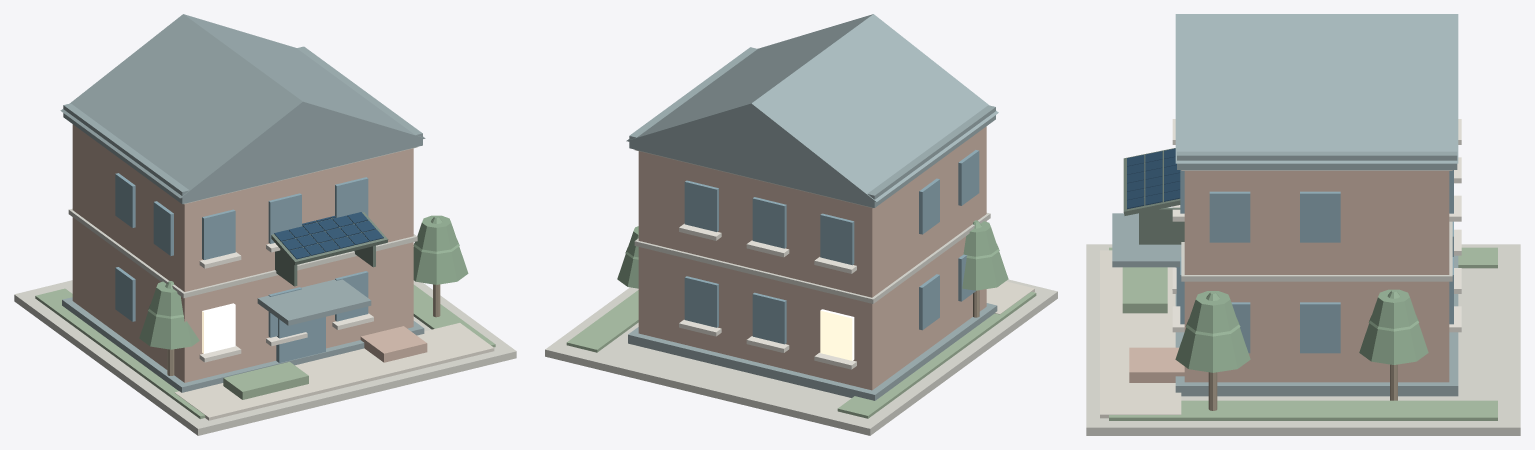
The model's file is remaster_house_5.glb.
3 views of the same model, side by side, from view 1: azimuth 30°, elevation 25°; view 2: azimuth 150°, elevation 25°; view 3: azimuth 270°, elevation 25° (orthographic). The views are drawn at different scales.
Parts seen in each view (by area): view 1: remaster_house_5 roof, remaster_house_5 brick, remaster_house_5 stone, remaster_house_5 glass, remaster_house_5 cream, remaster_house_5 leaf, remaster_house_5 green, remaster_house_5 white, remaster_house_5 warm, Solar frame, Panel leg, remaster_house_5 bark; view 2: remaster_house_5 brick, remaster_house_5 roof, remaster_house_5 stone, remaster_house_5 glass, remaster_house_5 green, remaster_house_5 leaf, remaster_house_5 white, remaster_house_5 warm, remaster_house_5 cream; view 3: remaster_house_5 roof, remaster_house_5 brick, remaster_house_5 stone, remaster_house_5 green, remaster_house_5 glass, remaster_house_5 leaf, remaster_house_5 cream, remaster_house_5 white, Panel leg.001, Solar frame, remaster_house_5 bark.
Boxes of the visible parts, <box> form: remaster_house_5 roof: <box>60,14,425,392</box>; remaster_house_5 brick: <box>72,124,427,382</box>; remaster_house_5 stone: <box>14,147,516,435</box>; remaster_house_5 glass: <box>115,173,368,362</box>; remaster_house_5 cream: <box>174,323,494,420</box>; remaster_house_5 leaf: <box>139,215,468,349</box>; remaster_house_5 green: <box>35,284,495,418</box>; remaster_house_5 white: <box>199,243,373,362</box>; remaster_house_5 warm: <box>202,303,235,353</box>; Solar frame: <box>271,212,388,265</box>; Panel leg: <box>275,249,297,286</box>; remaster_house_5 bark: <box>167,284,440,375</box>; remaster_house_5 brick: <box>638,126,986,390</box>; remaster_house_5 roof: <box>626,14,998,400</box>; remaster_house_5 stone: <box>545,149,1057,435</box>; remaster_house_5 glass: <box>684,150,979,344</box>; remaster_house_5 green: <box>566,290,1036,418</box>; remaster_house_5 leaf: <box>617,220,1008,290</box>; remaster_house_5 white: <box>679,223,856,369</box>; remaster_house_5 warm: <box>820,309,854,360</box>; remaster_house_5 cream: <box>986,281,1034,314</box>; remaster_house_5 roof: <box>1112,14,1458,396</box>; remaster_house_5 brick: <box>1129,171,1449,382</box>; remaster_house_5 stone: <box>1086,170,1520,435</box>; remaster_house_5 green: <box>1109,247,1497,420</box>; remaster_house_5 glass: <box>1176,170,1453,353</box>; remaster_house_5 leaf: <box>1175,289,1428,372</box>; remaster_house_5 cream: <box>1100,250,1181,418</box>; remaster_house_5 white: <box>1172,119,1461,332</box>; Panel leg.001: <box>1139,207,1184,244</box>; Solar frame: <box>1123,148,1180,215</box>; remaster_house_5 bark: <box>1208,364,1397,410</box>.
Bounding box in the file's own units: 9.64 × 7.82 × 9.6.
